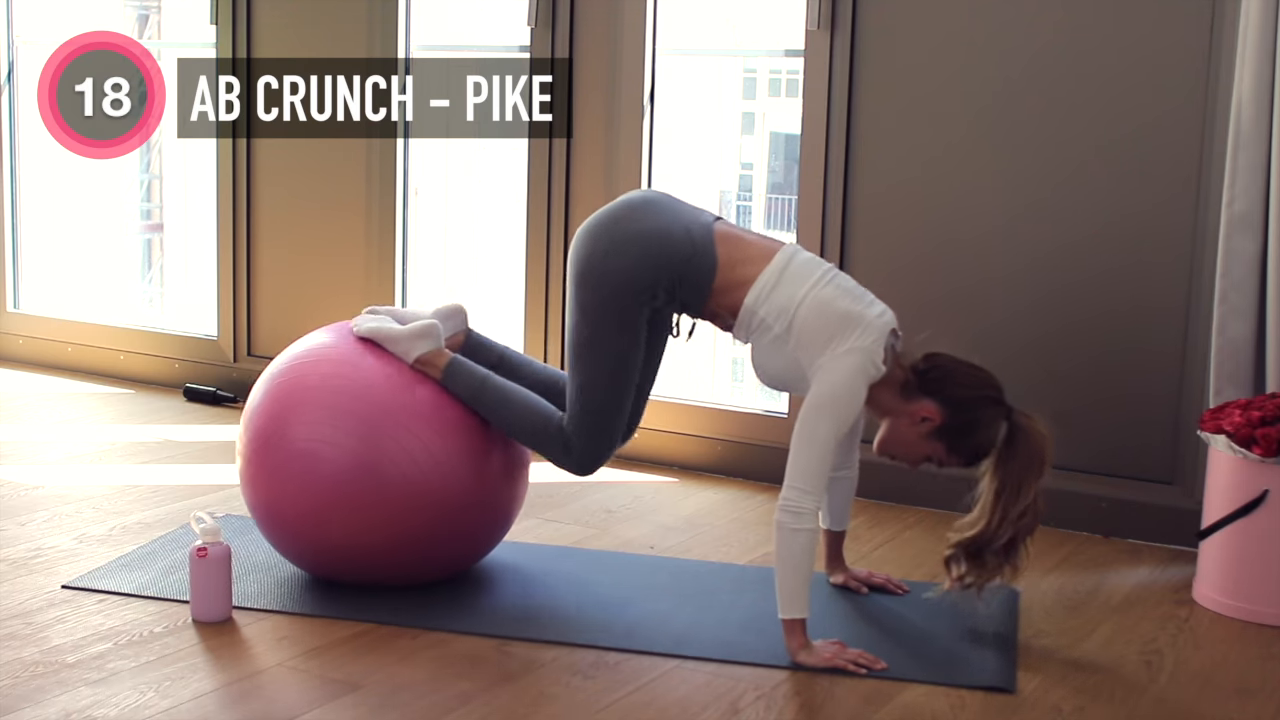yogaball: (236, 315, 536, 592)
